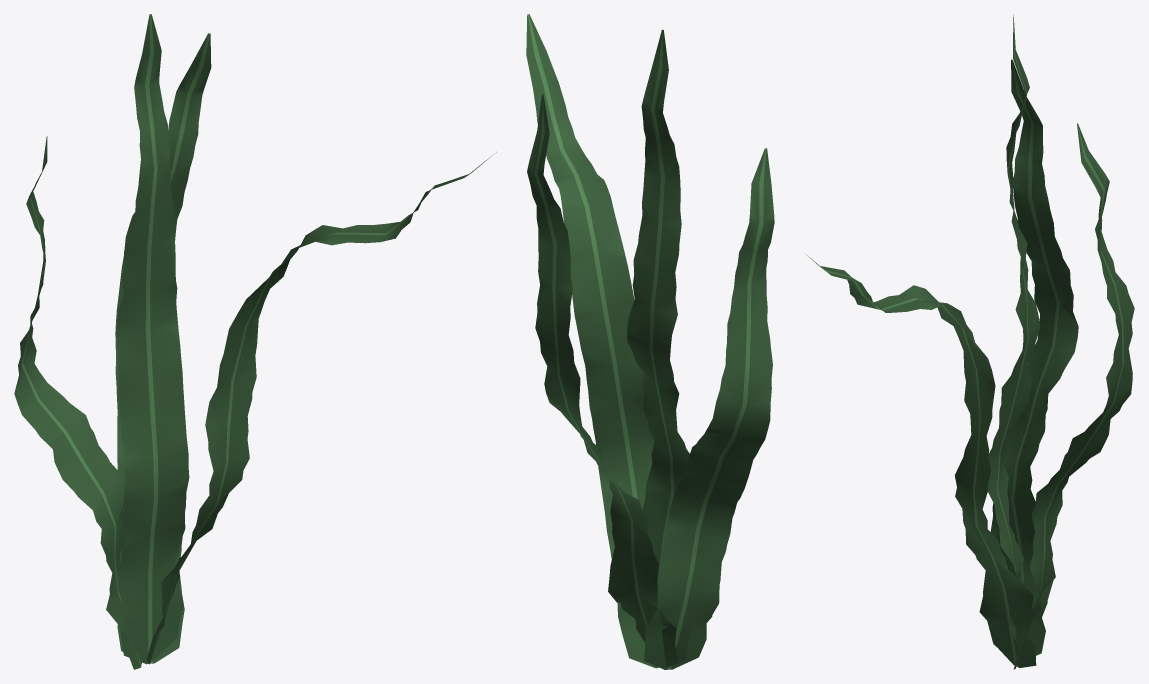
The model's file is seafeed_01.fbx.
3 renders of one model, left to right at view 1: azimuth 30°, elevation 25°; view 2: azimuth 150°, elevation 25°; view 3: azimuth 270°, elevation 25°, orthographic. The views are drawn at different scales.
Parts seen in each view (by area): view 1: pPlane1, pPlane2, pPlane4, pPlane3; view 2: pPlane4, pPlane2, pPlane1, pPlane3; view 3: pPlane4, pPlane2, pPlane3, pPlane1.
Part boxes in pixels (left/top/right/bottom): pPlane1: left=116, top=14, right=189, bottom=664; pPlane2: left=146, top=152, right=496, bottom=664; pPlane4: left=14, top=136, right=141, bottom=669; pPlane3: left=115, top=33, right=211, bottom=663; pPlane4: left=644, top=148, right=774, bottom=669; pPlane2: left=526, top=14, right=658, bottom=668; pPlane1: left=627, top=29, right=691, bottom=662; pPlane3: left=527, top=94, right=678, bottom=667; pPlane4: left=990, top=59, right=1078, bottom=655; pPlane2: left=804, top=253, right=1036, bottom=667; pPlane3: left=1013, top=123, right=1134, bottom=669; pPlane1: left=987, top=15, right=1040, bottom=641.
Bounding box in the file's own units: 12.71 × 21.62 × 9.96.
